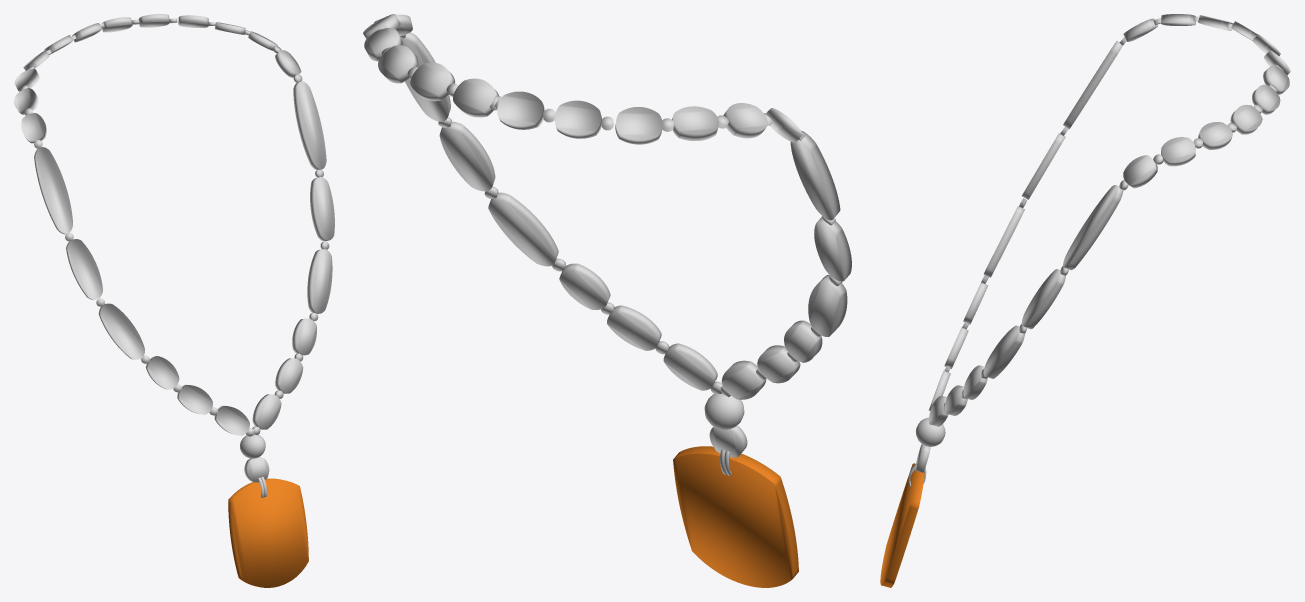
File: Necklace.fbx
3 views of the same model, side by side, from view 1: azimuth 30°, elevation 25°; view 2: azimuth 150°, elevation 25°; view 3: azimuth 270°, elevation 25° (orthographic). The views are drawn at different scales.
Parts seen in each view (by area): view 1: Necklace; view 2: Necklace; view 3: Necklace.
Part boxes in pixels (box(x1,y1,x2,y2)): Necklace: box(14, 14, 334, 587); Necklace: box(363, 14, 851, 587); Necklace: box(880, 14, 1290, 587).
Bounding box in the file's own units: 156 × 240 × 172.
